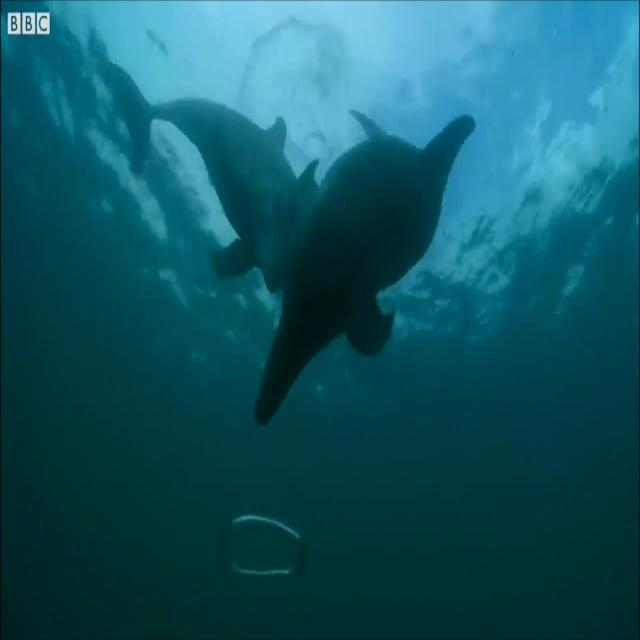Dolphin: (258, 116, 475, 430), (106, 60, 301, 294)
